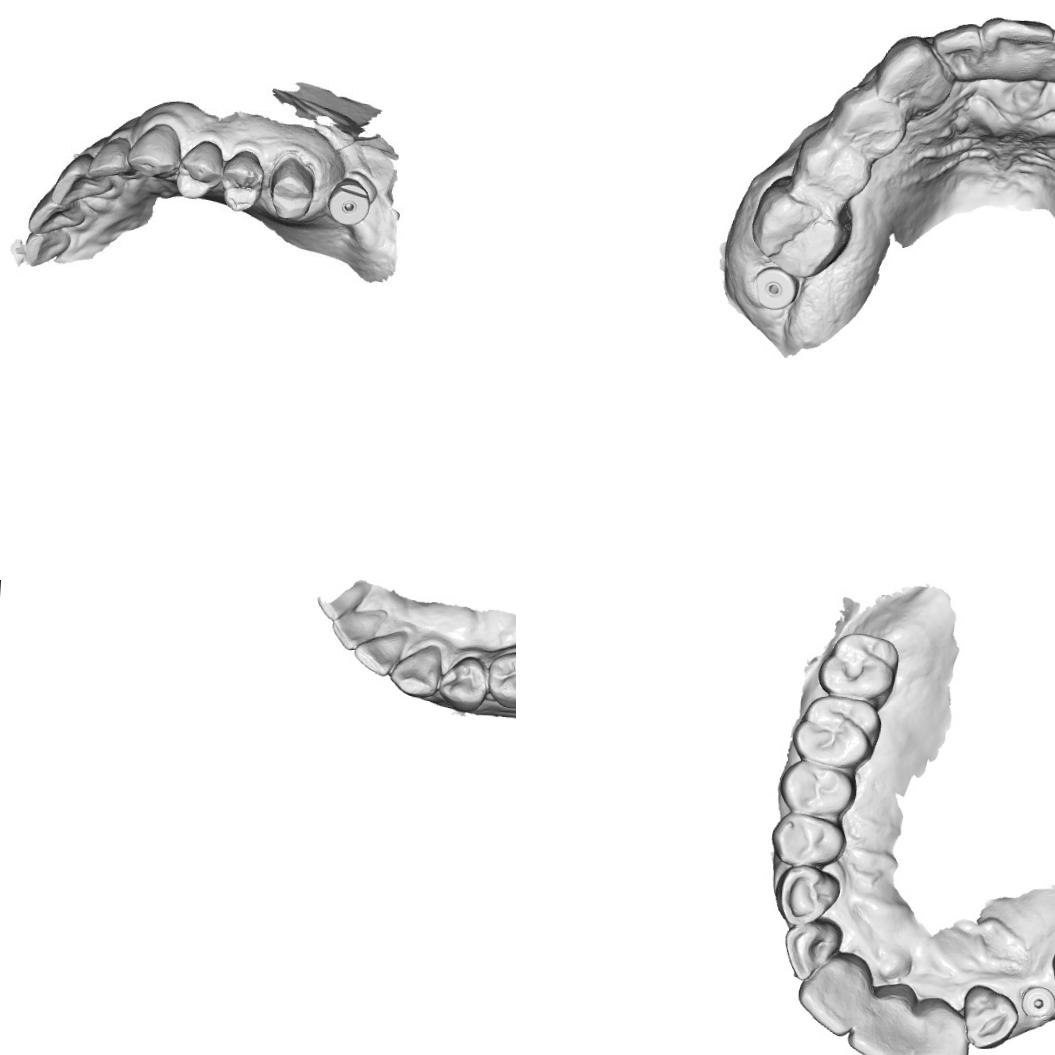canine: (872, 34, 953, 113), (774, 863, 844, 928), (959, 984, 1020, 1052), (124, 119, 182, 179), (387, 640, 442, 702)
crown: (264, 149, 318, 224)
implant: (324, 175, 371, 227), (750, 264, 798, 312), (1020, 984, 1055, 1020)
incisor: (794, 952, 868, 1040), (977, 14, 1055, 90), (840, 991, 916, 1055), (780, 922, 844, 985), (928, 19, 986, 84), (50, 152, 114, 208), (903, 1004, 970, 1055), (327, 602, 391, 653), (350, 625, 408, 678), (26, 193, 86, 236), (85, 133, 137, 180)
molar: (746, 175, 852, 280), (788, 693, 884, 772), (814, 630, 900, 706)
premolar: (791, 127, 869, 208), (826, 85, 906, 158), (773, 760, 855, 822), (768, 814, 851, 870), (434, 651, 488, 714), (174, 136, 225, 201), (218, 147, 266, 213), (483, 647, 516, 713)
